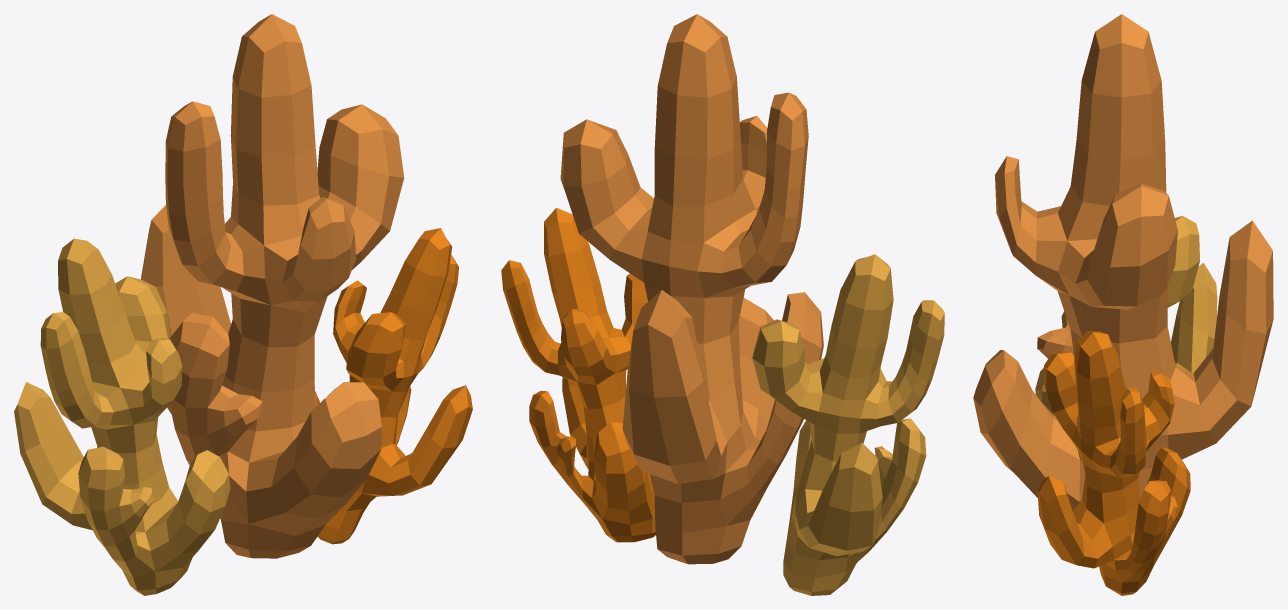
The model's file is Koraal_1.fbx.
The picture shows the model from 3 angles, left to right: view 1: azimuth 30°, elevation 25°; view 2: azimuth 150°, elevation 25°; view 3: azimuth 270°, elevation 25°; orthographic projection.
Parts seen in each view (by area): view 1: Koraal; view 2: Koraal; view 3: Koraal.
Part boxes in pixels (x1,y1,x2,y2): Koraal: [14, 14, 472, 595]; Koraal: [501, 14, 944, 595]; Koraal: [973, 14, 1273, 595].
Bounding box in the file's own units: 1018 × 1246 × 618.
